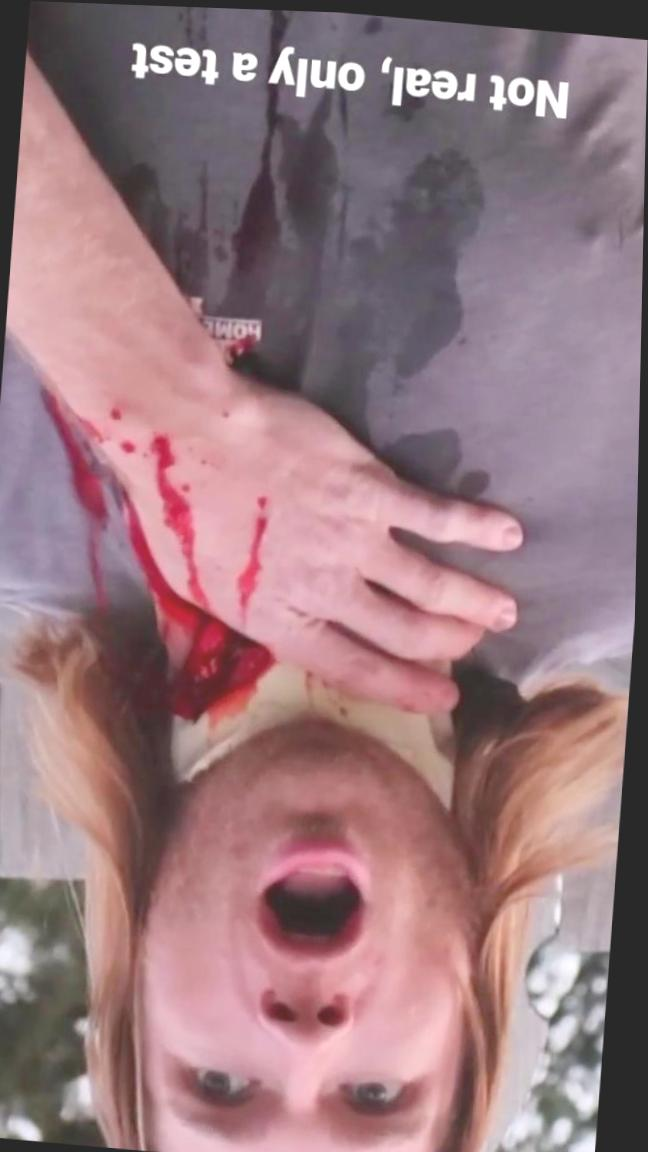Fire: (123, 491, 279, 720), (44, 387, 110, 612), (151, 431, 218, 611), (62, 395, 156, 481), (240, 494, 271, 626)
